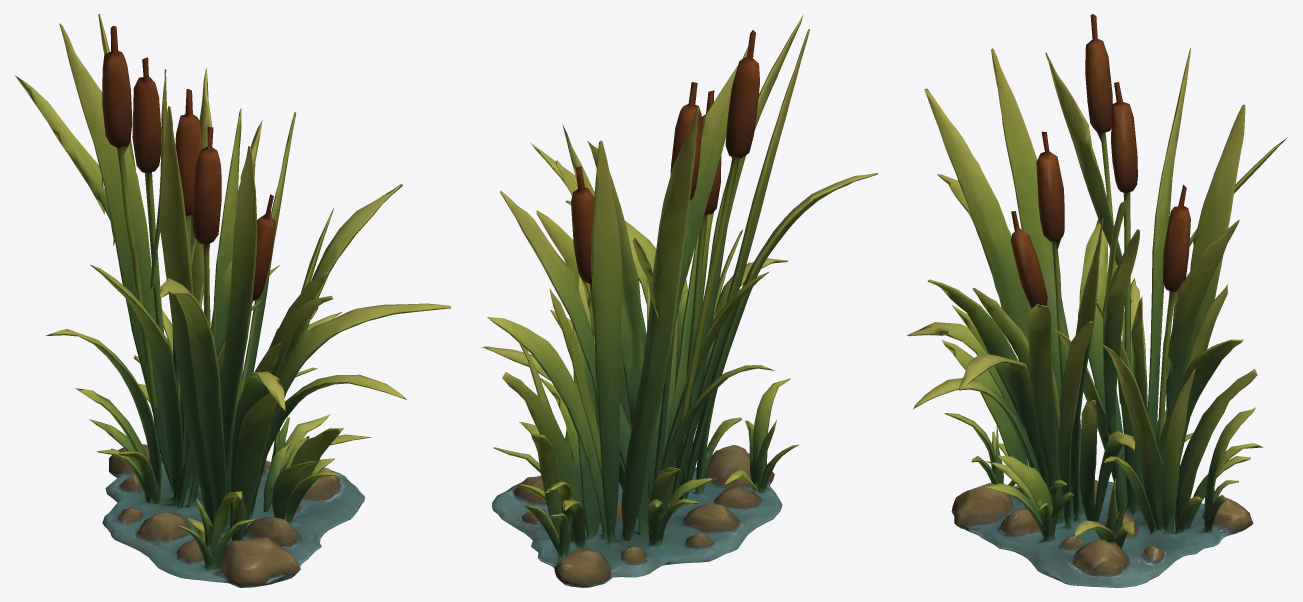
Rendered from juncos.glb.
3 renders of one model, left to right at view 1: azimuth 30°, elevation 25°; view 2: azimuth 150°, elevation 25°; view 3: azimuth 270°, elevation 25°, orthographic. The views are drawn at different scales.
Visible parts, largest first — view 1: tripo_node_2fcfc6ae-c297-4ed4-8e0b-2bfa38a55294; view 2: tripo_node_2fcfc6ae-c297-4ed4-8e0b-2bfa38a55294; view 3: tripo_node_2fcfc6ae-c297-4ed4-8e0b-2bfa38a55294.
Part boxes in pixels (box(x1,y1,x2,y2)): tripo_node_2fcfc6ae-c297-4ed4-8e0b-2bfa38a55294: box(15, 14, 451, 587); tripo_node_2fcfc6ae-c297-4ed4-8e0b-2bfa38a55294: box(481, 14, 877, 587); tripo_node_2fcfc6ae-c297-4ed4-8e0b-2bfa38a55294: box(906, 14, 1287, 587).
Size of the model in its own units: 0.62 by 1 by 0.7428.
1 material, 1 textured.
